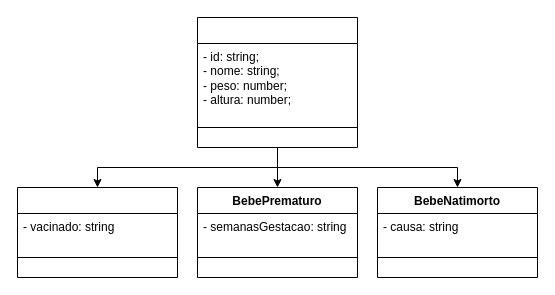
Image size: 555x295. Some labels were removed from this diagram. Each missing label, with the box of its shape:
Bebe: (196, 16, 358, 148)
BebeNormal: (16, 186, 178, 278)
